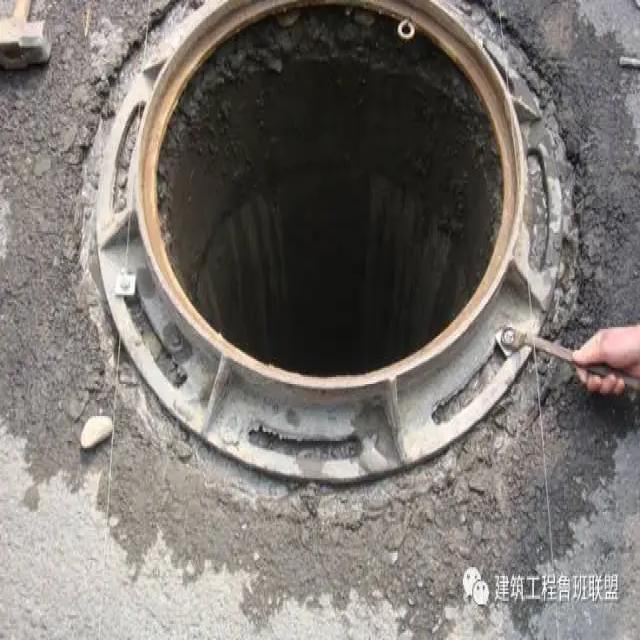manhole: (156, 6, 502, 376)
